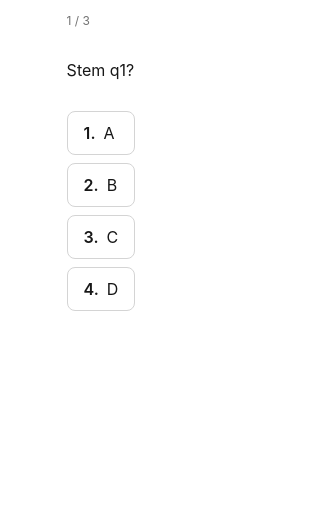
Test: QuizRunner › shows the correct scorecard when all answers are correct
Click the button named "1. A": click(101, 133) [67, 111, 135, 155]
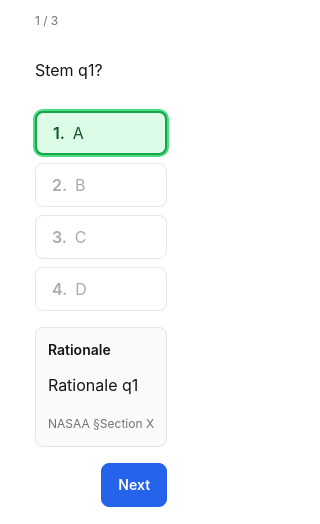
Click the button with test id "quiz-next": click(134, 485) [101, 463, 167, 507]
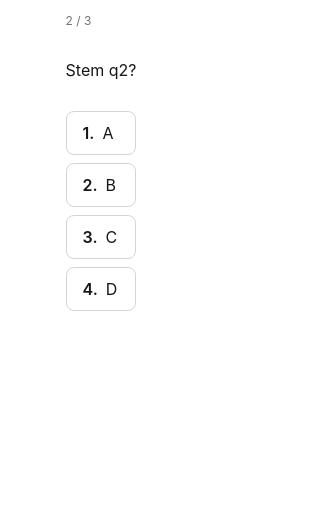
Click the button named "2. B": click(101, 185) [66, 163, 136, 207]
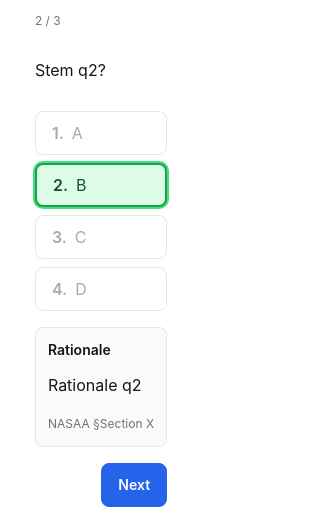
Click the button with test id "quiz-next": click(134, 485) [101, 463, 167, 507]
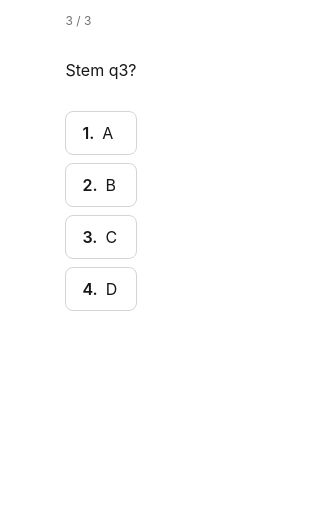
Click the button named "3. C": click(101, 237) [66, 215, 136, 259]
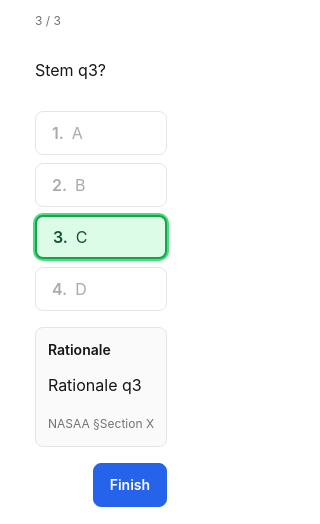
Click the button with test id "quiz-next": click(130, 485) [93, 463, 167, 507]
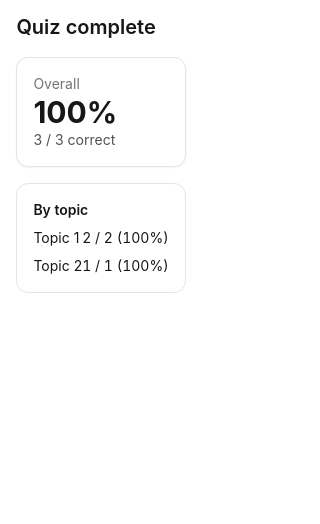
Expected: the text "100%" is shown, [33, 94, 117, 130]
Expected: the text "3 / 3 correct" is shown, [33, 131, 115, 148]
